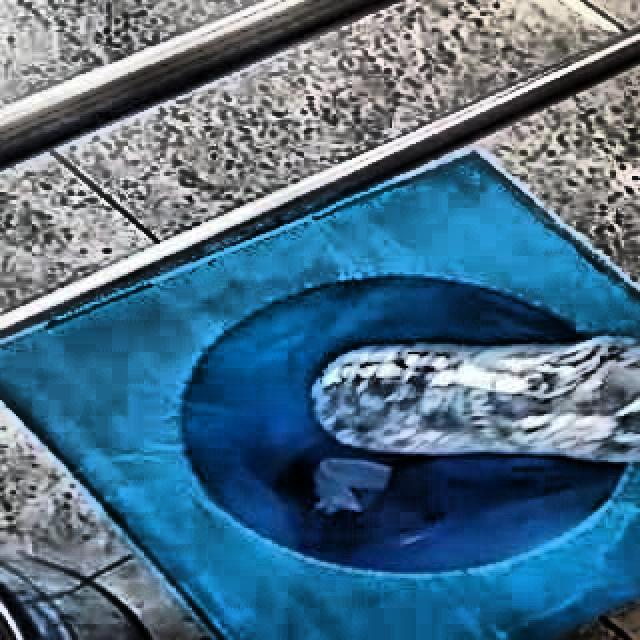plastic: (315, 338, 640, 463)
